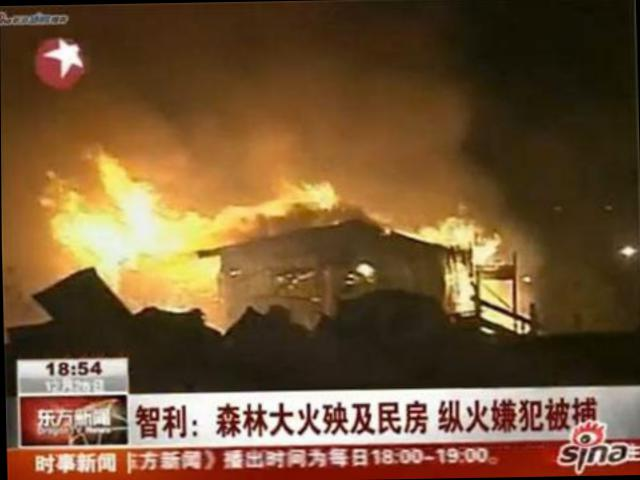fire: (43, 135, 327, 322), (399, 208, 517, 328)
